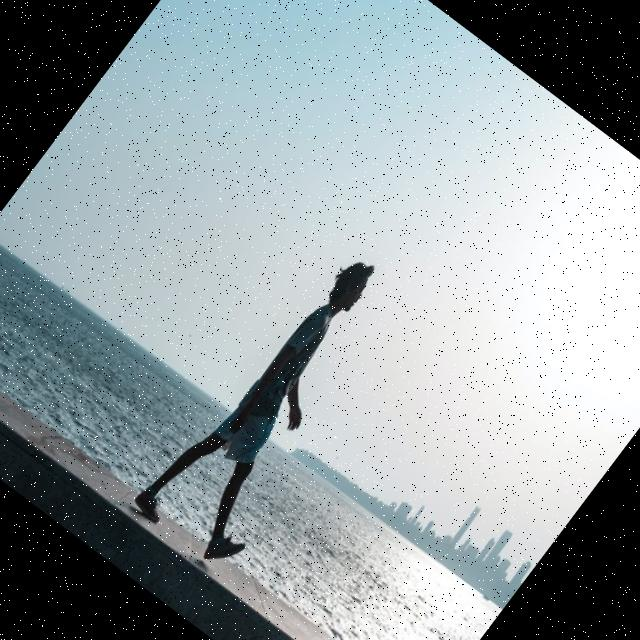Person: (131, 237, 426, 575)
